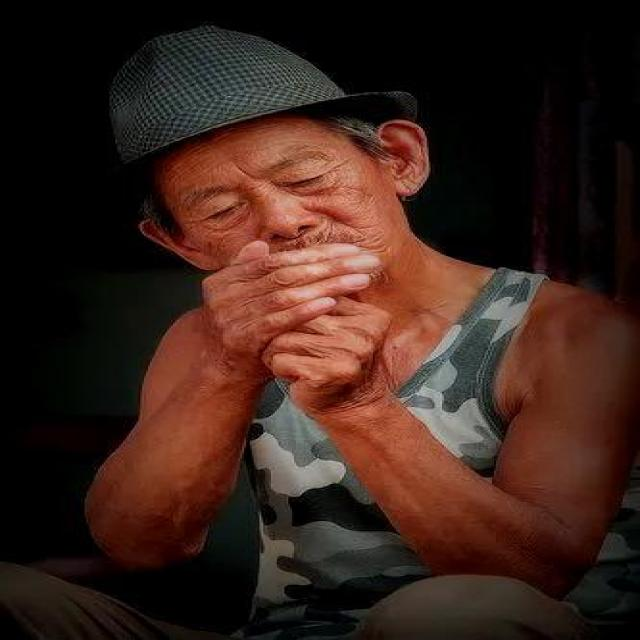smoke: (246, 228, 392, 354)
